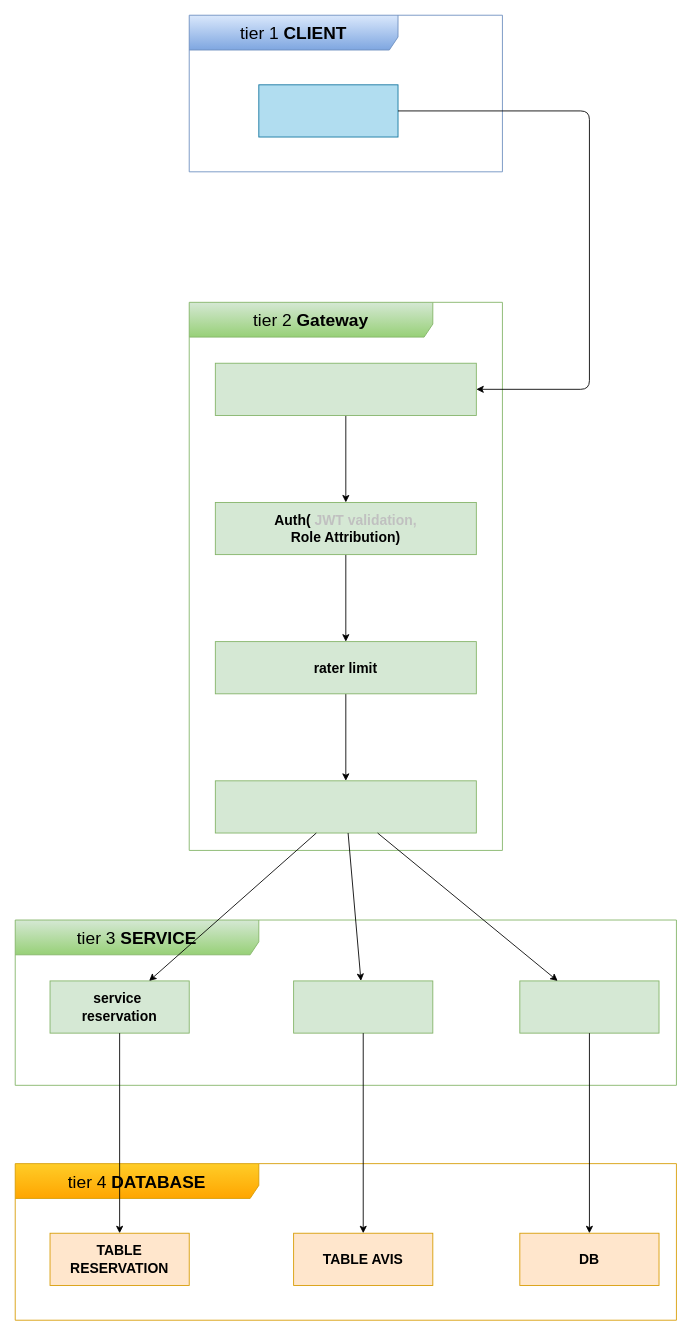
Some shapes in this 692 by 1335 pixel diagram are drawn without their labels. Each missing label, with the centre of its shape:
"Api Endpoint" belongs at pixel 345 388.
"Application web react" belongs at pixel 328 110.
"Routage" belongs at pixel 345 806.
"service" belongs at pixel 589 1006.
"service avis" belongs at pixel 363 1006.
